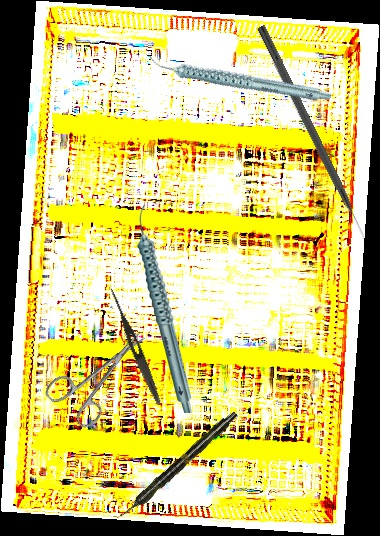Dressing Forceps: (105, 286, 165, 407)
Handpiece: (147, 19, 333, 137), (116, 408, 241, 522), (136, 205, 193, 413)
Hook Surgical: (254, 24, 369, 243)
Iris Scissors: (41, 314, 165, 435)
